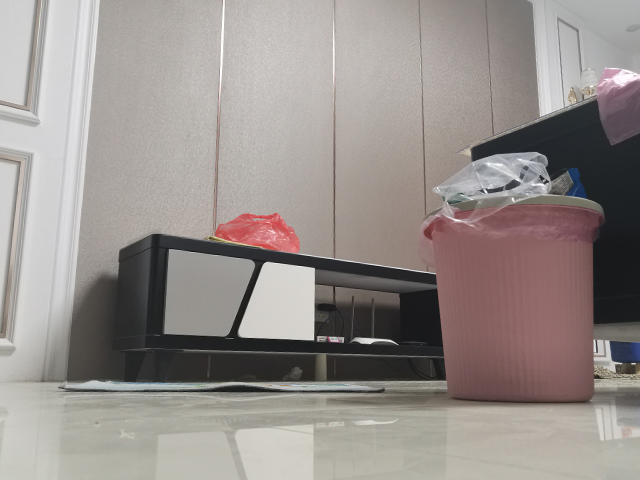cabinet: (110, 229, 450, 385)
carpet: (56, 378, 390, 395), (592, 363, 640, 381)
stool: (607, 339, 640, 377)
table: (454, 72, 640, 387)
trashcan: (417, 190, 607, 405)
wire: (402, 356, 445, 383)
